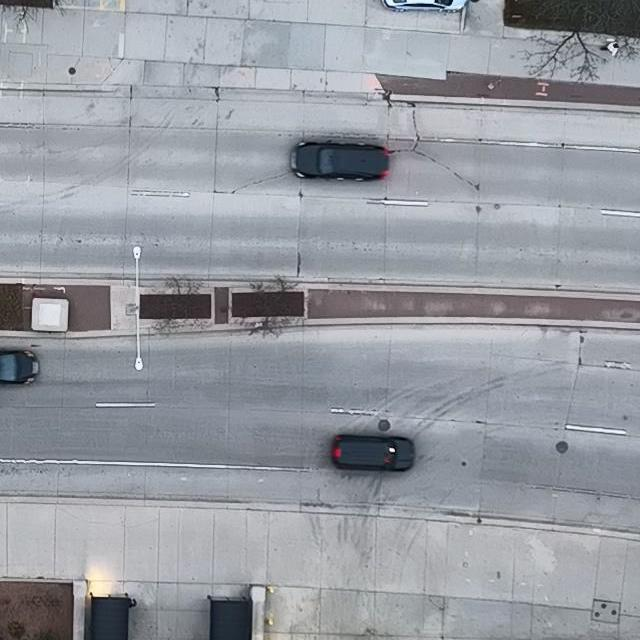car: (291, 139, 389, 181), (332, 435, 415, 472), (0, 347, 40, 386), (380, 0, 465, 11)
